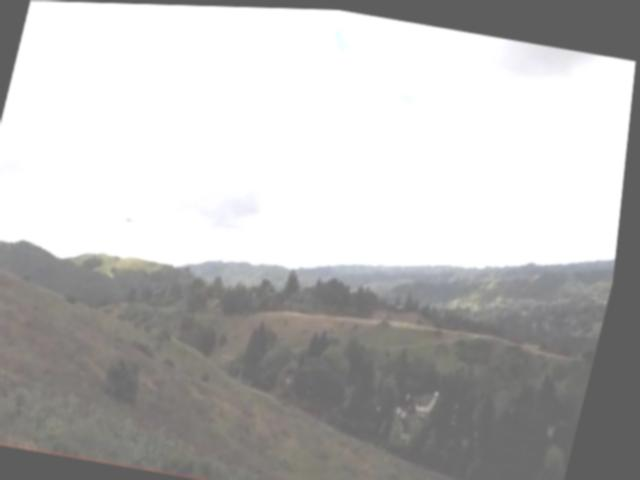iha: (107, 197, 156, 231)
